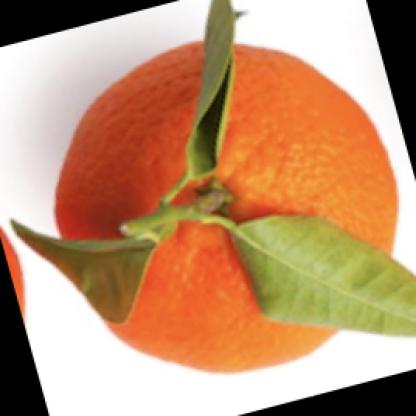fresh: (58, 41, 397, 376)
